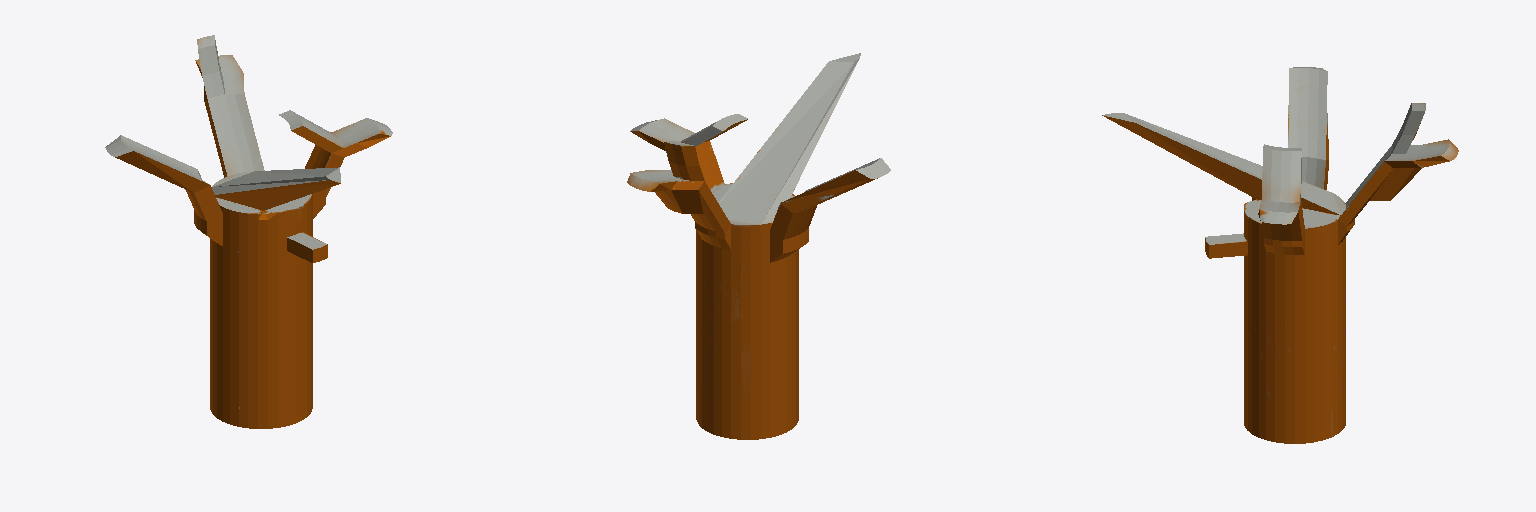
3 views of the same model, side by side, from view 1: azimuth 30°, elevation 25°; view 2: azimuth 150°, elevation 25°; view 3: azimuth 270°, elevation 25° (orthographic).
Visible parts, largest first — view 1: 円柱; view 2: 円柱; view 3: 円柱.
Boxes of the visible parts, x1=… form: 円柱: x1=105, y1=35, x2=392, y2=428; 円柱: x1=627, y1=53, x2=890, y2=439; 円柱: x1=1102, y1=67, x2=1458, y2=443.
Size of the model in its own units: 5.99 by 6.88 by 6.97.
1 materials, 1 textured.